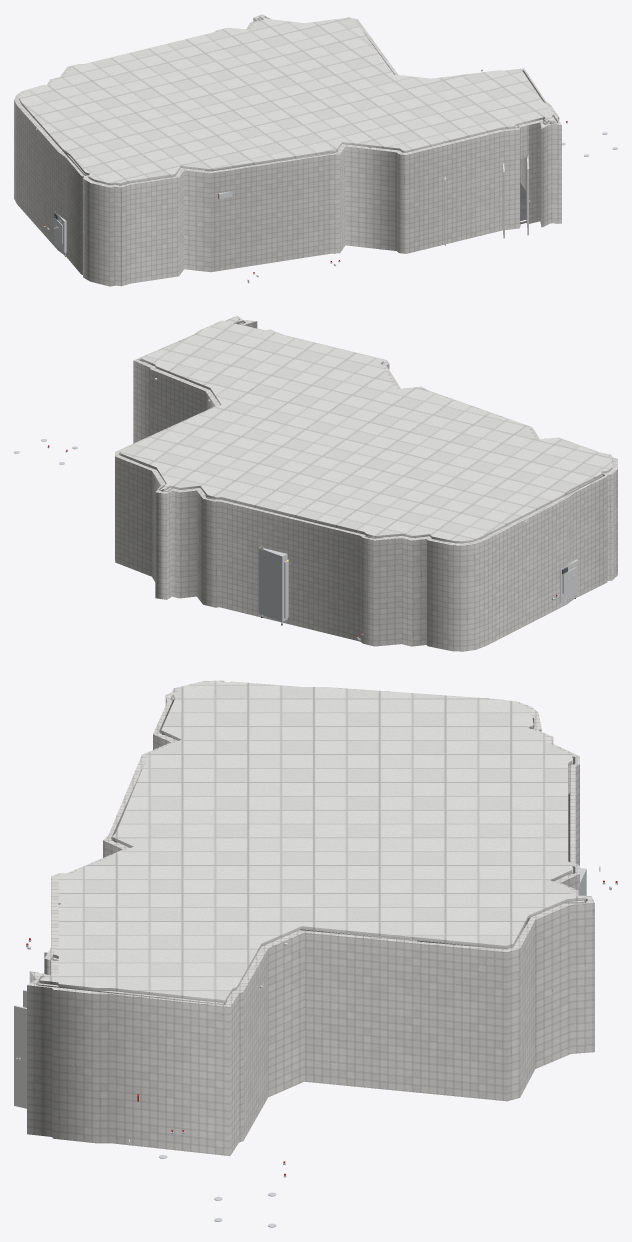
Rendered from cocina_alta_ab4ba34df585.glb.
The picture shows the model from 3 angles, top to bottom: view 1: azimuth 30°, elevation 25°; view 2: azimuth 150°, elevation 25°; view 3: azimuth 270°, elevation 25°; orthographic projection. The views are drawn at different scales.
Parts seen in each view (by area): view 1: WALLS, CEILING; view 2: CEILING, WALLS, ARMARIO_FRIO_1; view 3: CEILING, WALLS, DOOR_4.
Boxes of the visible parts, x1,y1,x2,y2 form: WALLS: (14, 14, 561, 286); CEILING: (19, 15, 554, 185); CEILING: (120, 317, 612, 543); WALLS: (115, 315, 617, 651); ARMARIO_FRIO_1: (258, 547, 287, 621); CEILING: (39, 680, 585, 1003); WALLS: (27, 680, 594, 1155); DOOR_4: (14, 1005, 26, 1108).
Bounding box in the file's own units: 17.2 × 3.42 × 11.02.
26 materials, 4 textured.
